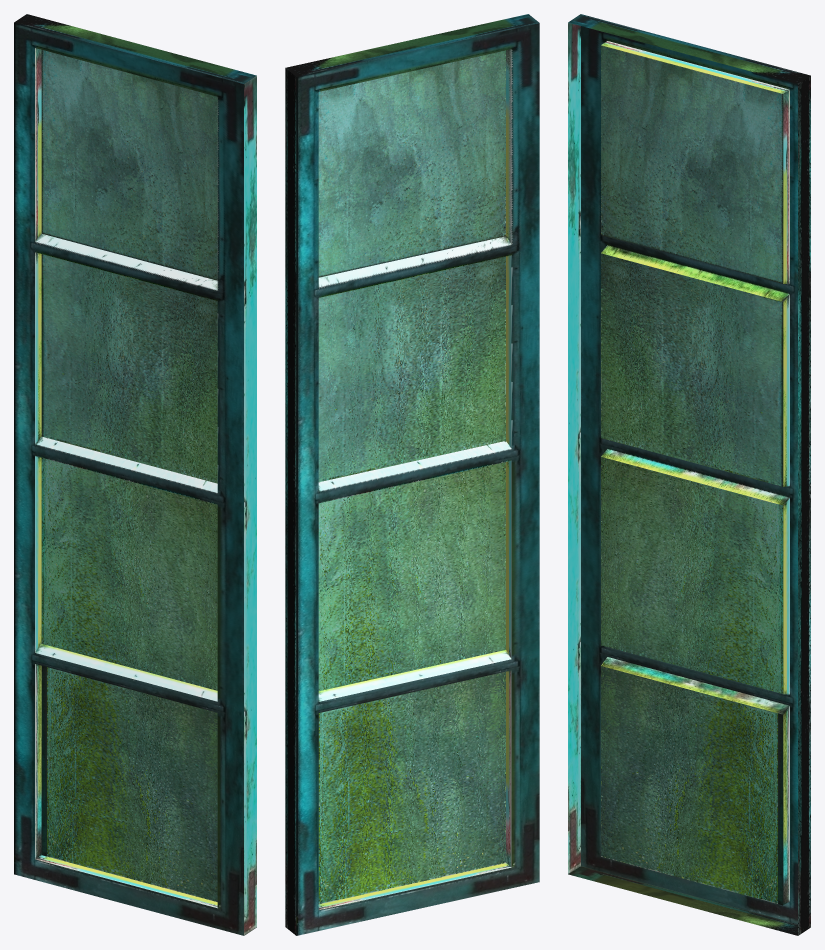
The model's file is ventana1.obj.
3 views of the same model, side by side, from view 1: azimuth 90°, elevation 25°; view 2: azimuth 150°, elevation 25°; view 3: azimuth 270°, elevation 25° (orthographic).
Visible parts, largest first — view 1: pasted__group group pasted__pasted__glass2, pasted__pasted__win_still pasted__group group; view 2: pasted__group group pasted__pasted__glass2, pasted__pasted__win_still pasted__group group; view 3: pasted__group group pasted__pasted__glass2, pasted__pasted__win_still pasted__group group.
Boxes of the visible parts, bbox=[...] form: pasted__group group pasted__pasted__glass2: bbox=[41, 50, 217, 901]; pasted__pasted__win_still pasted__group group: bbox=[14, 14, 256, 935]; pasted__group group pasted__pasted__glass2: bbox=[318, 50, 505, 904]; pasted__pasted__win_still pasted__group group: bbox=[285, 14, 539, 935]; pasted__group group pasted__pasted__glass2: bbox=[601, 45, 783, 905]; pasted__pasted__win_still pasted__group group: bbox=[568, 14, 810, 935].
Bounding box in the file's own units: 0.5485 × 3.11 × 0.8027.
